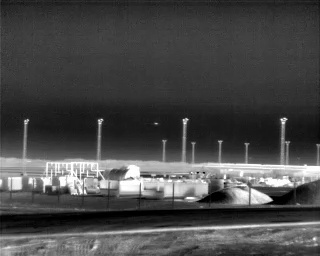AIRPLANE: (153, 120, 160, 127)
